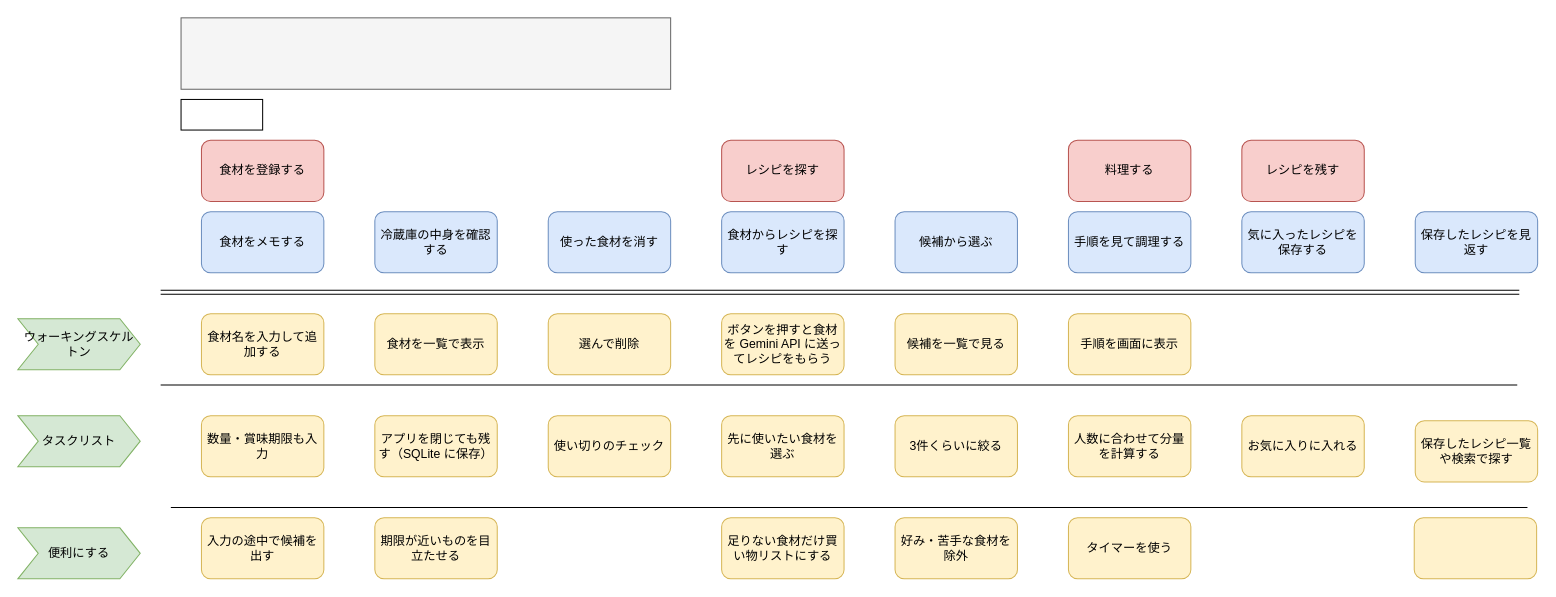
This 1556x597 diagram has some shape labels left out. Each missing label, with the centre of its shape:
"自炊する人" goes at [221,114].
"自炊する人の、冷蔵庫の中身を思い出せず手持ちの食材に合うレシピを選べないペインを、今ある食材から作れる料理がすぐ分かる状態へ変えるためのレシピ提案アプリ" goes at [425,53].
"見た履歴を残す" goes at [1475,548].
